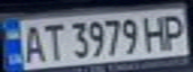3: (66, 18, 90, 58)
7: (103, 16, 124, 56)
9: (118, 15, 142, 55), (84, 17, 106, 57)
A: (18, 21, 48, 64)
H: (139, 12, 172, 52)
P: (157, 11, 190, 51)
T: (39, 20, 66, 62)
